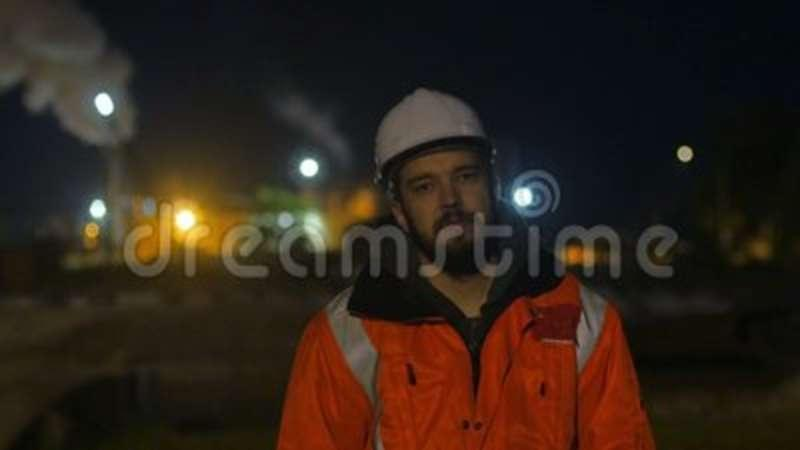Helmet: (375, 90, 500, 215)
Vest: (329, 289, 635, 450)
